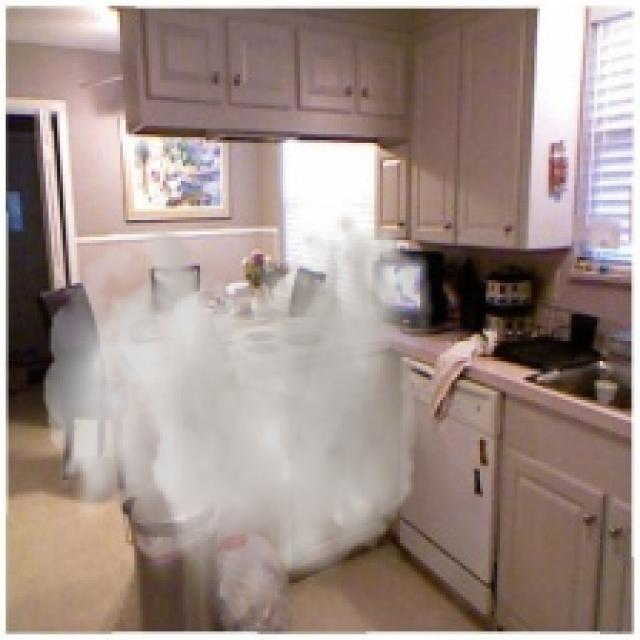Smoke: (42, 212, 434, 634)
